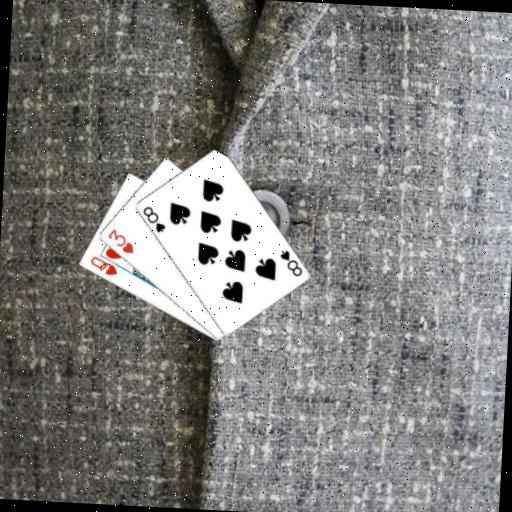3H: (104, 226, 137, 256)
8S: (139, 203, 168, 235), (276, 247, 305, 279)
QH: (87, 253, 120, 278)
